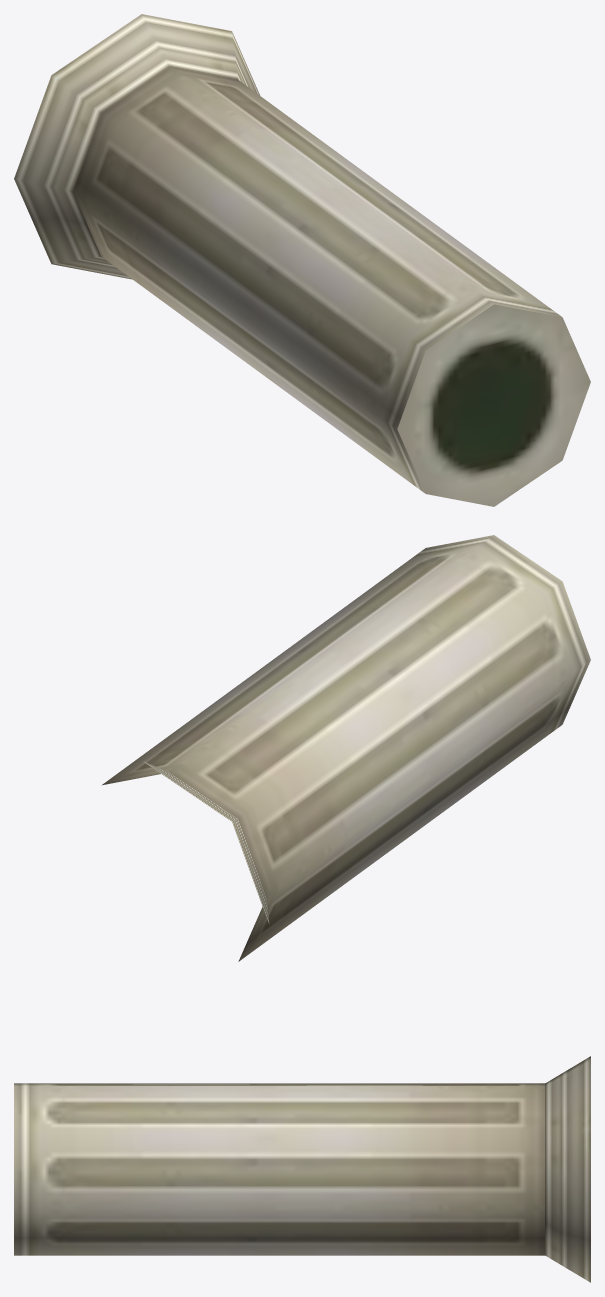
The picture shows the model from 3 angles, top to bottom: view 1: azimuth 30°, elevation 25°; view 2: azimuth 150°, elevation 25°; view 3: azimuth 270°, elevation 25°; orthographic projection. The views are drawn at different scales.
Parts seen in each view (by area): view 1: model_Object108; view 2: model_Object108; view 3: model_Object108.
Part boxes in pixels (box(x1,y1,x2,y2)): model_Object108: box(14, 14, 590, 506); model_Object108: box(102, 535, 590, 961); model_Object108: box(14, 1056, 590, 1282).
Size of the model in its own units: 0.2583 by 0.2583 by 0.6173.
1 material, 1 textured.
